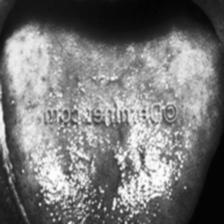Unclassified: (21, 33, 179, 99), (42, 159, 187, 224)
